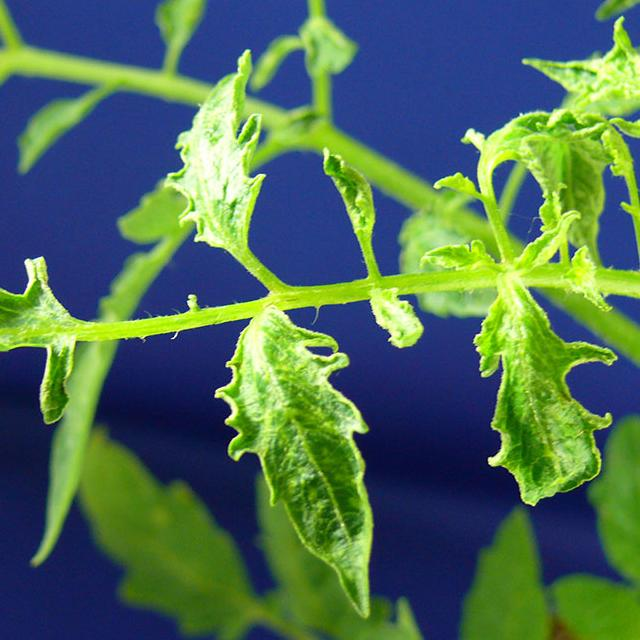Tomato leaf mosaic virus: (198, 305, 406, 627), (439, 281, 623, 524), (156, 40, 277, 260), (0, 258, 105, 415)
